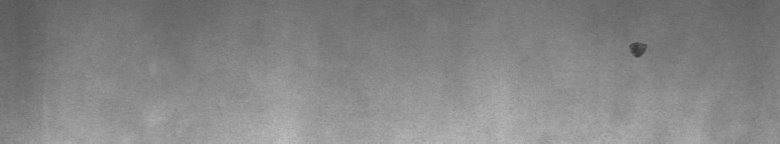fi: (624, 36, 648, 64)
